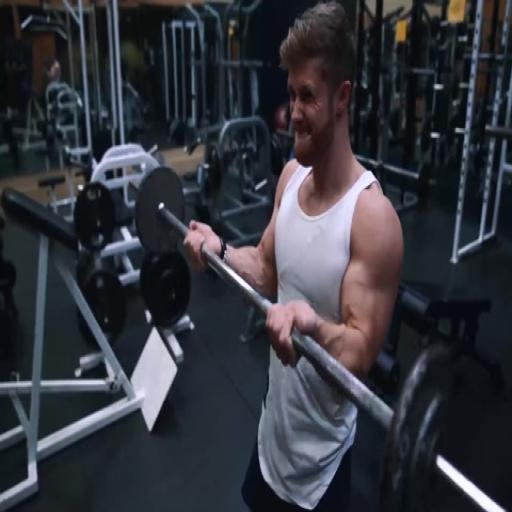exercise: (182, 0, 408, 511)
